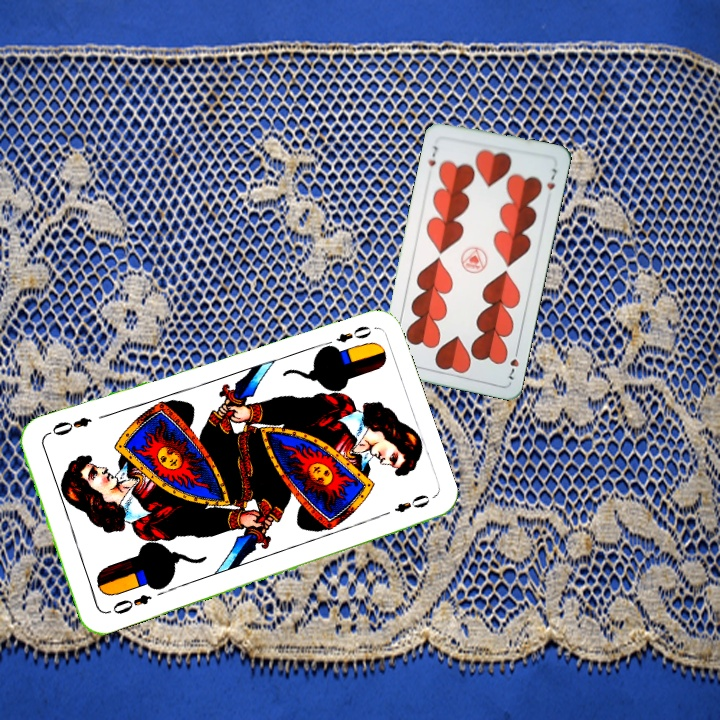EO: (109, 590, 155, 617), (332, 321, 374, 346)
H7: (503, 344, 522, 382), (424, 142, 441, 169)
